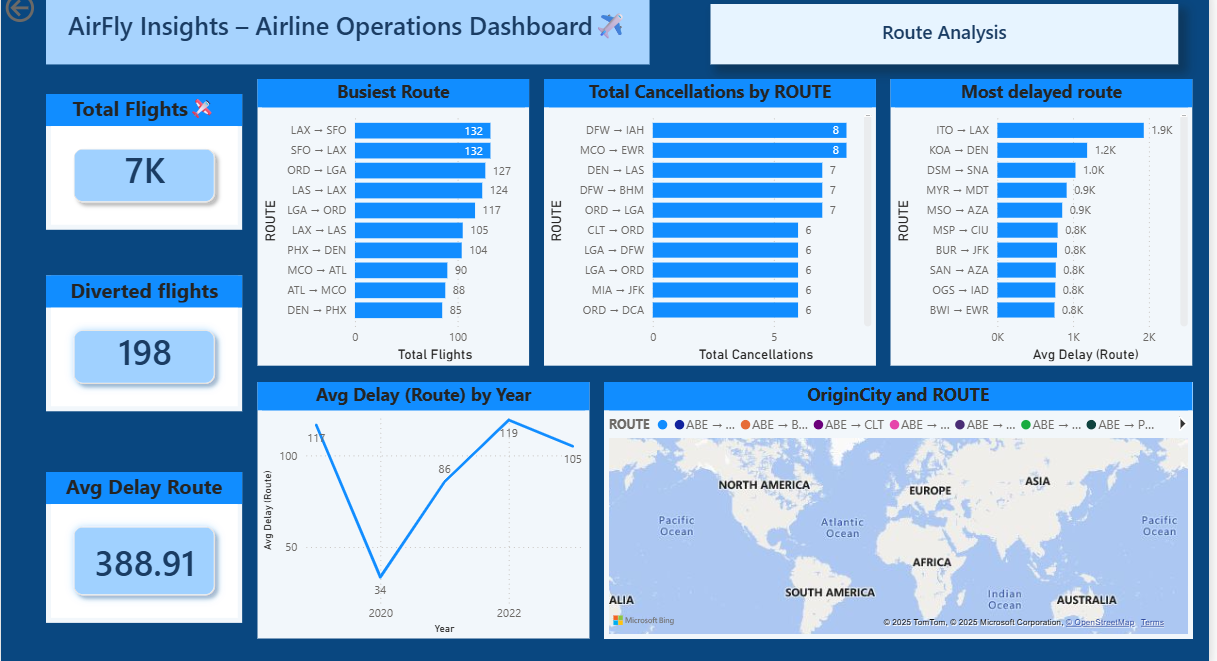

The page's visual inventory and layout, read from the dashboard file:
{"tool":"powerbi","page":{"name":"Route Analysis","canvas":[1280,720],"ordinal":4},"visuals":[{"type":"textbox","box":[48,0,640,80],"z":0},{"type":"actionButton","box":[752,16,496,64],"z":1000},{"type":"actionButton","box":[0,0,100,40],"z":2000},{"type":"clusteredBarChart","title":"Busiest Route","fields":{"Y":["data.Total Flights"],"Category":["data.ROUTE"]},"box":[272,96,288,304],"z":3000},{"type":"lineChart","fields":{"Category":["data.Date.Variation.Date Hierarchy.Year","data.Date.Variation.Date Hierarchy.Quarter","data.Date.Variation.Date Hierarchy.Month","data.Date.Variation.Date Hierarchy.Day"],"Y":["data.Avg Delay (Route)"]},"box":[272,416,352,272],"z":4000},{"type":"cardVisual","title":"Total Flights🛩️ ","fields":{"Data":["data.Total Flights"]},"box":[48,112,208,144],"z":5000},{"type":"cardVisual","title":"Diverted flights","fields":{"Data":["data.Total Diverted Flights"]},"box":[48,304,208,144],"z":6000},{"type":"cardVisual","title":"Avg Delay Route","fields":{"Data":["data.Avg Delay (Route)"]},"box":[48,512,208,160],"z":7000},{"type":"barChart","fields":{"Category":["data.ROUTE"],"Y":["data.Total Cancellations"]},"box":[576,96,352,304],"z":8000},{"type":"barChart","title":"Most delayed route","fields":{"Y":["data.Avg Delay (Route)"],"Category":["data.ROUTE"]},"box":[944,96,320,304],"z":9000},{"type":"map","fields":{"Category":["data.OriginCity"],"Series":["data.ROUTE"]},"box":[640,416,624,272],"z":10000}]}

Visuals, with their boxes on the page's 1280x720 design canvas (x1, y1, x2, y2). These are canvas units, not pixel positions in the 1217x661 screenshot, which may show the page scaled, cropped or inside an application window:
textbox: <region>48, 0, 688, 80</region>
actionButton: <region>752, 16, 1248, 80</region>
actionButton: <region>0, 0, 100, 40</region>
"Busiest Route" clusteredBarChart: <region>272, 96, 560, 400</region>
lineChart - data.Date.Variation.Date Hierarchy.Year x data.Date.Variation.Date Hierarchy.Quarter: <region>272, 416, 624, 688</region>
"Total Flights🛩️ " cardVisual: <region>48, 112, 256, 256</region>
"Diverted flights" cardVisual: <region>48, 304, 256, 448</region>
"Avg Delay Route" cardVisual: <region>48, 512, 256, 672</region>
barChart - data.ROUTE x data.Total Cancellations: <region>576, 96, 928, 400</region>
"Most delayed route" barChart: <region>944, 96, 1264, 400</region>
map - data.OriginCity x data.ROUTE: <region>640, 416, 1264, 688</region>
